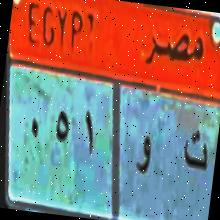0: (23, 104, 46, 160)
1: (74, 102, 102, 173)
5: (47, 100, 76, 160)
taa: (174, 122, 214, 190)
waw: (129, 124, 161, 191)
